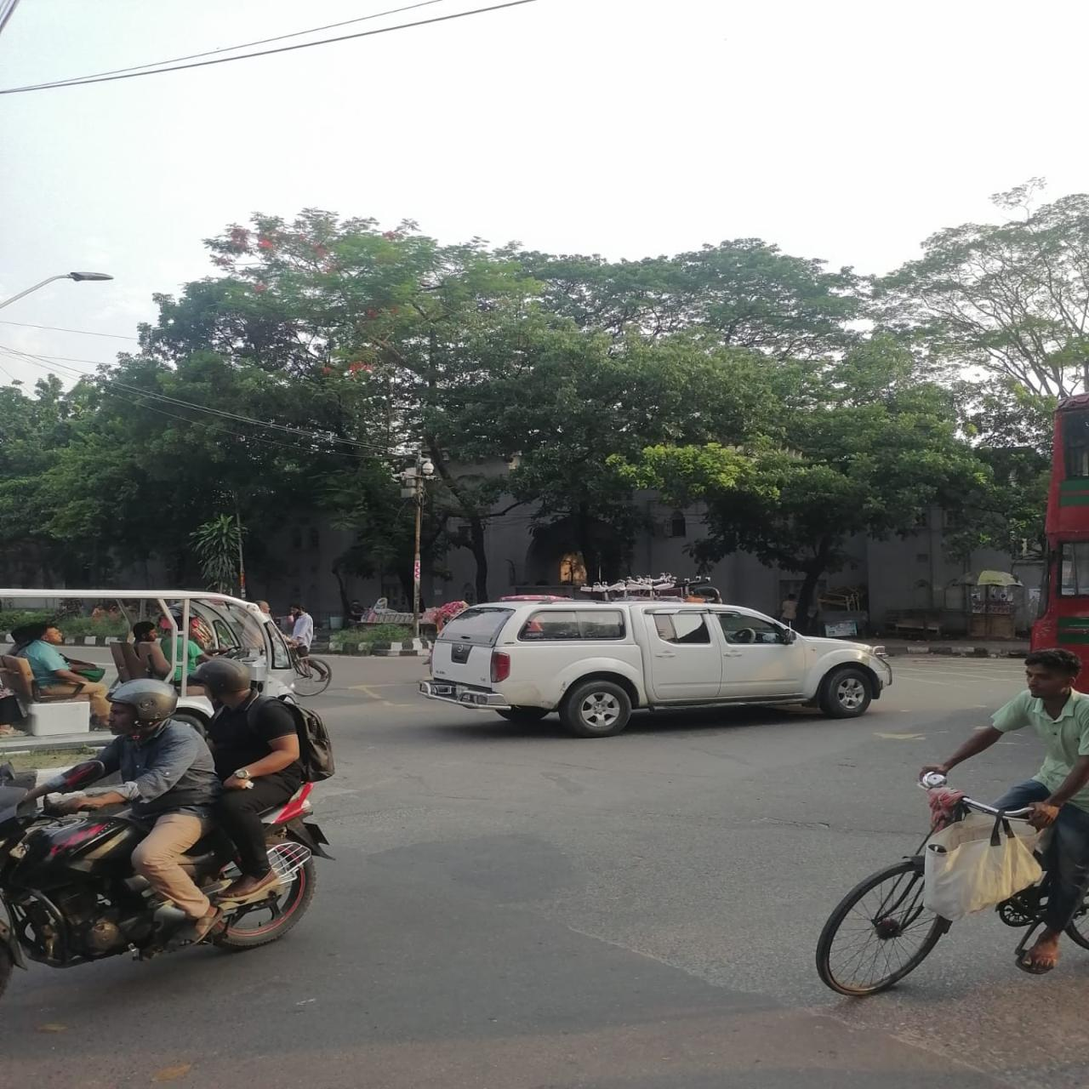person: (284, 601, 323, 684)
